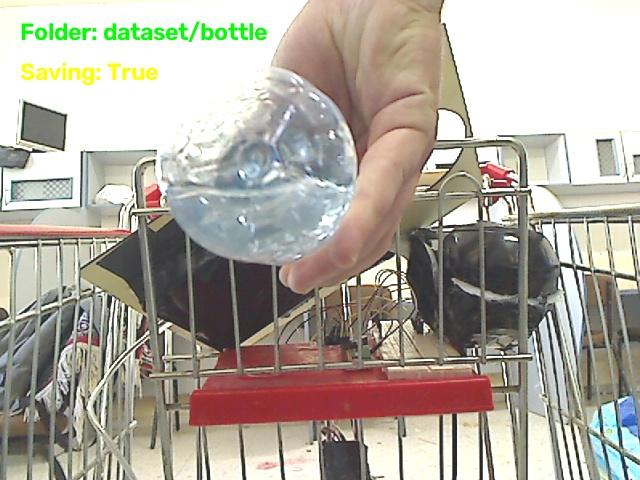Bottle: (158, 69, 356, 263)
